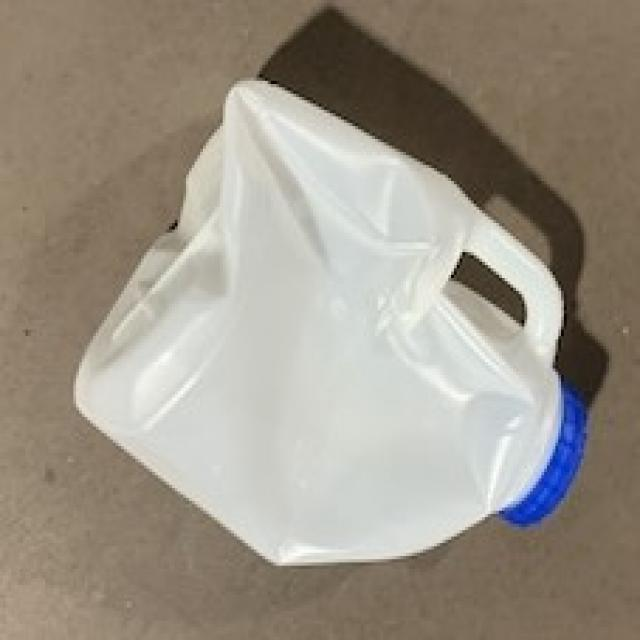HDPE Plastic: (70, 72, 592, 572)
